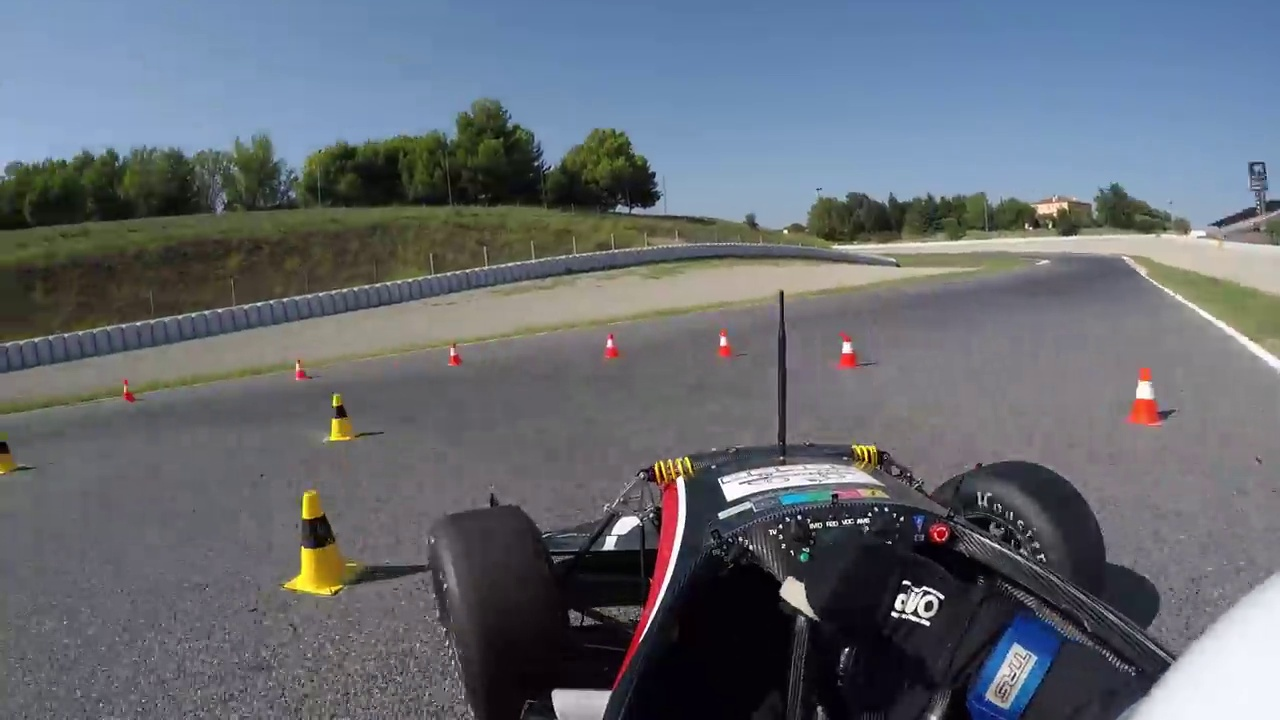Cone: (284, 484, 353, 599), (1125, 366, 1166, 427), (326, 390, 354, 445), (836, 329, 861, 368)
